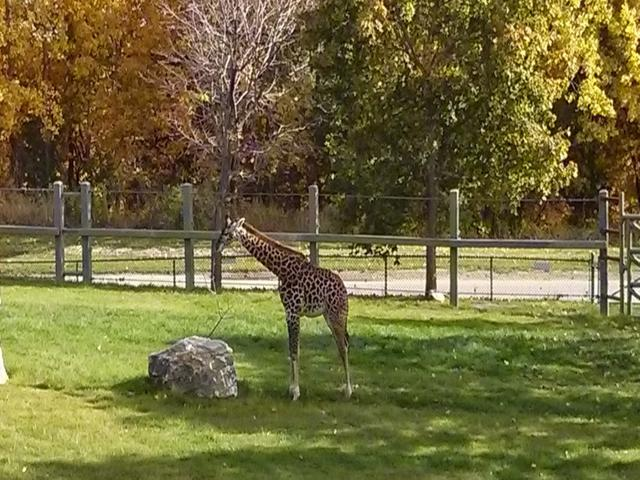giraffe: (204, 210, 377, 433)
